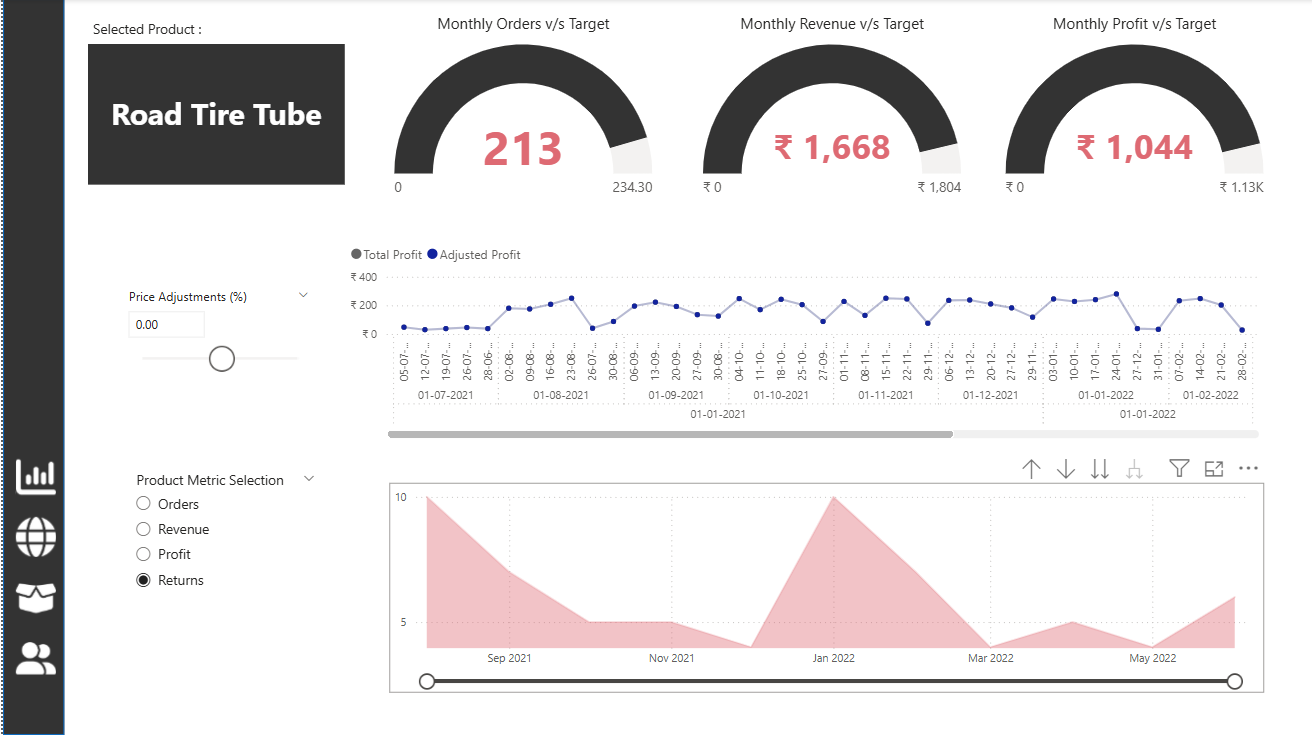

What the dashboard file says about the page in this screenshot:
{"tool":"powerbi","page":{"name":"Product detail","canvas":[1280,720],"ordinal":2},"visuals":[{"type":"shape","box":[0,0,60,720],"z":0},{"type":"gauge","title":"Monthly Orders v/s Target","fields":{"Y":["Measure Table.Total Orders"],"MaxValue":["Measure Table.Order Target"]},"box":[377.5,13.8,262.5,196.2],"z":1000},{"type":"actionButton","box":[8.8,503,70,47.5],"z":1000,"group":"g1"},{"type":"gauge","title":"Monthly Revenue v/s Target","fields":{"Y":["Measure Table.Total Revenue"],"MaxValue":["Measure Table.Revenue Target"]},"box":[680,13.8,262.5,196.2],"z":2000},{"type":"actionButton","box":[8.8,443.8,70,47.5],"z":2000,"group":"g1"},{"type":"gauge","title":"Monthly Profit v/s Target","fields":{"Y":["Measure Table.Total Profit"],"MaxValue":["Measure Table.Profit Target"]},"box":[976.2,13.8,262.5,196.2],"z":3000},{"type":"actionButton","box":[8.8,562.1,70,47.5],"z":3000,"group":"g1"},{"type":"lineChart","title":"Profit Trending","fields":{"Category":["Calendar Lookup.Date Hierarchy.Start of Year","Calendar Lookup.Date Hierarchy.Start of Month","Calendar Lookup.Date Hierarchy.Start of Week","Calendar Lookup.Date Hierarchy.Date"],"Y":["Measure Table.Total Profit","Measure Table.Adjusted Profit"]},"box":[335,230,898.8,205],"z":4000},{"type":"actionButton","box":[8.8,621.3,70,47.5],"z":4000,"group":"g1"},{"type":"stackedAreaChart","title":"Returns Trending","fields":{"Y":["Measure Table.Total Returns"],"Category":["Calendar Lookup.Date Hierarchy.Start of Year","Calendar Lookup.Date Hierarchy.Start of Month","Calendar Lookup.Date Hierarchy.Start of Week","Calendar Lookup.Date Hierarchy.Date"]},"box":[377.5,473.8,856.2,205],"z":5000},{"type":"card","fields":{"Values":["Min(Product Lookup.ProductName)"]},"box":[83.8,43.8,251.2,137.5],"z":6000},{"type":"textbox","box":[83.8,15,133.8,28.8],"z":7000},{"type":"group","id":"g1","title":"Navigation Buttons","box":[8.8,443.8,70,225],"z":8000},{"type":"slicer","fields":{"Values":["Price Adjustments (%).Price Adjustments (%)"]},"box":[110,277.5,201.2,110],"z":9000},{"type":"slicer","fields":{"Values":["Product Metric Selection.Product Metric Selection"]},"box":[117.5,456.2,200,180],"z":10000}]}

Visuals, with their boxes on the page's 1280x720 design canvas (x1, y1, x2, y2). These are canvas units, not pixel positions in the 1312x735 screenshot, which may show the page scaled, cropped or inside an application window:
shape: <bbox>0, 0, 60, 720</bbox>
"Monthly Orders v/s Target" gauge: <bbox>378, 14, 640, 210</bbox>
actionButton: <bbox>9, 503, 79, 550</bbox>
"Monthly Revenue v/s Target" gauge: <bbox>680, 14, 942, 210</bbox>
actionButton: <bbox>9, 444, 79, 491</bbox>
"Monthly Profit v/s Target" gauge: <bbox>976, 14, 1239, 210</bbox>
actionButton: <bbox>9, 562, 79, 610</bbox>
"Profit Trending" lineChart: <bbox>335, 230, 1234, 435</bbox>
actionButton: <bbox>9, 621, 79, 669</bbox>
"Returns Trending" stackedAreaChart: <bbox>378, 474, 1234, 679</bbox>
card - Min(Product Lookup.ProductName): <bbox>84, 44, 335, 181</bbox>
textbox: <bbox>84, 15, 218, 44</bbox>
"Navigation Buttons" group: <bbox>9, 444, 79, 669</bbox>
slicer - Price Adjustments (%).Price Adjustments (%): <bbox>110, 278, 311, 388</bbox>
slicer - Product Metric Selection.Product Metric Selection: <bbox>118, 456, 318, 636</bbox>
